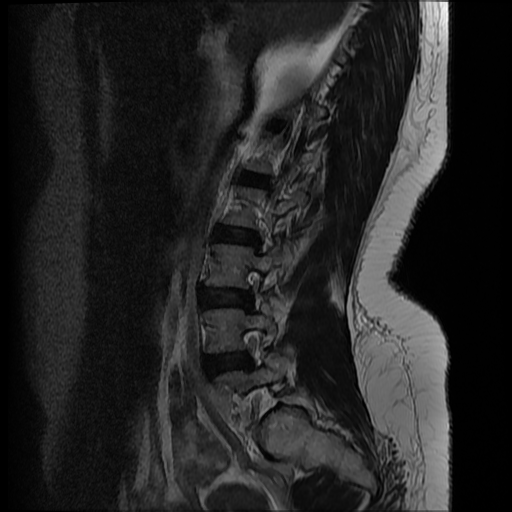RFS0: (234, 320, 274, 373)
